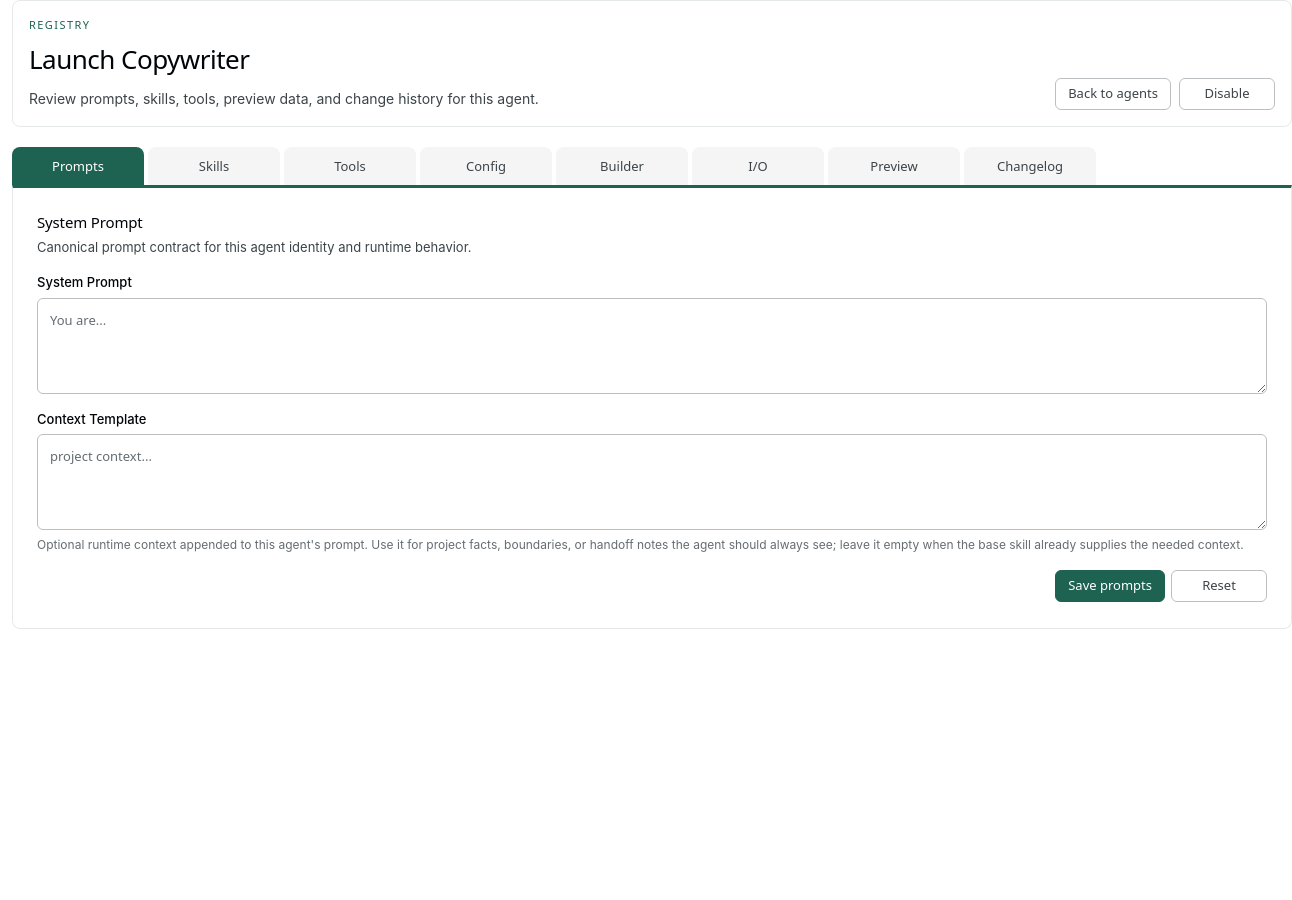
Scenario: RegistryAgentsDetailPage › localizes agent facts without changing the agent identifier when enabled is true
Expected: the heading "Launch Copywriter" is shown, [29,41,249,77]
Click the tab "Config".
click(486, 166)  # box [420,147,552,185]
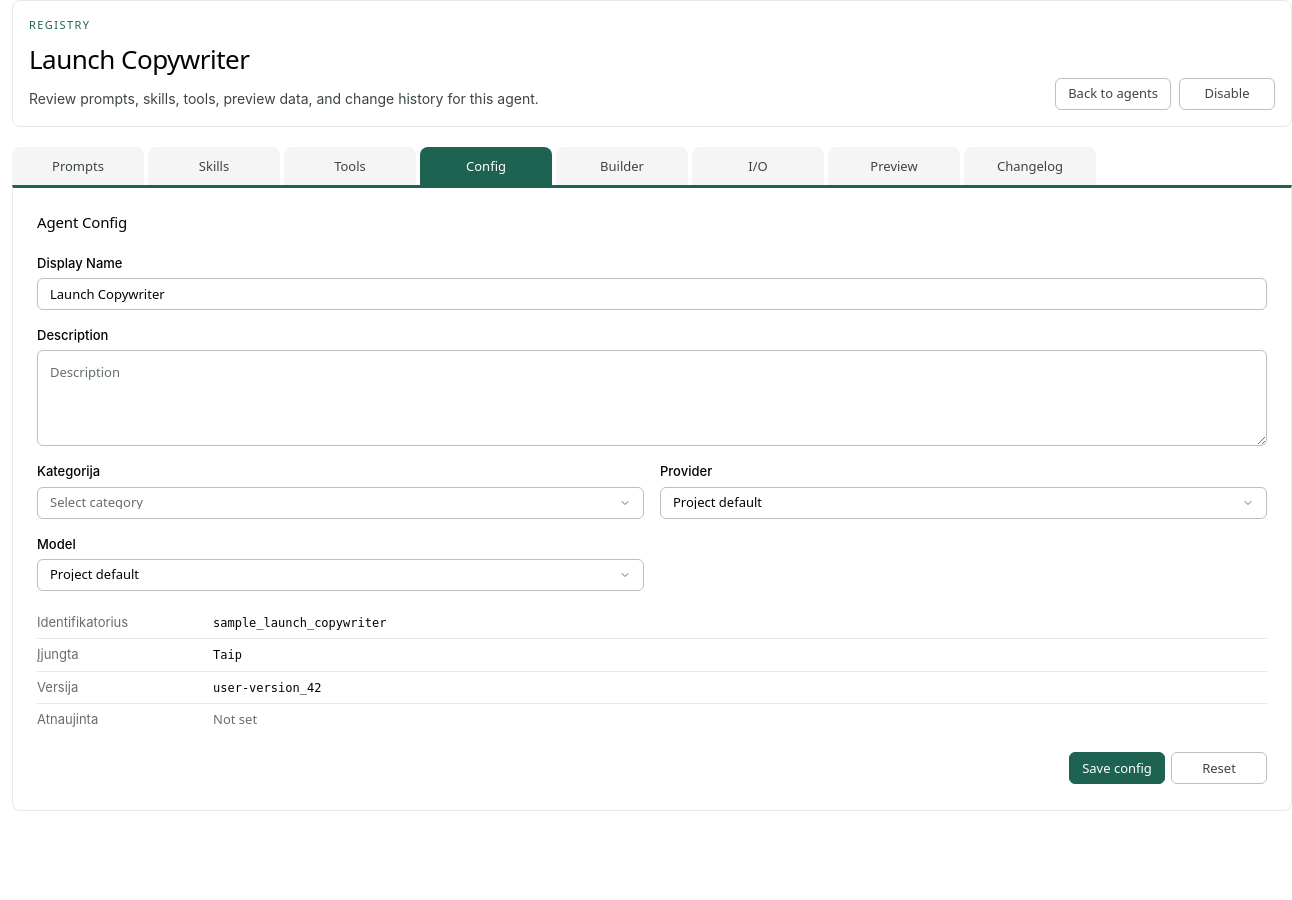
Result: the text "Identifikatorius" is shown at [37,614,128,630]
Result: the text "Įjungta" is shown at [37,646,79,662]
Result: the text "Versija" is shown at [37,679,78,695]
